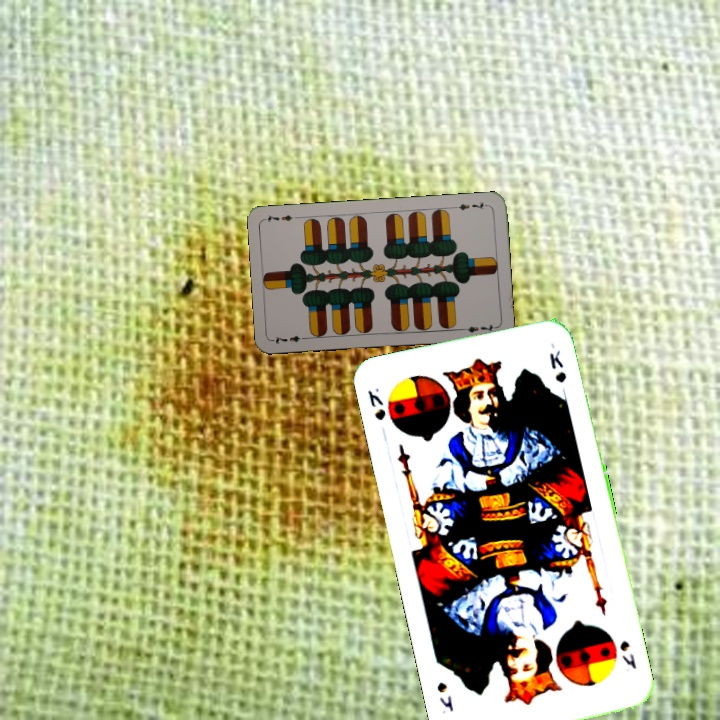E7: (450, 198, 491, 213), (269, 331, 310, 346)
SK: (363, 383, 388, 423), (616, 636, 639, 672)
